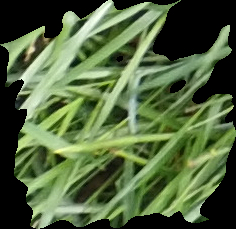grass: (1, 1, 234, 228)
